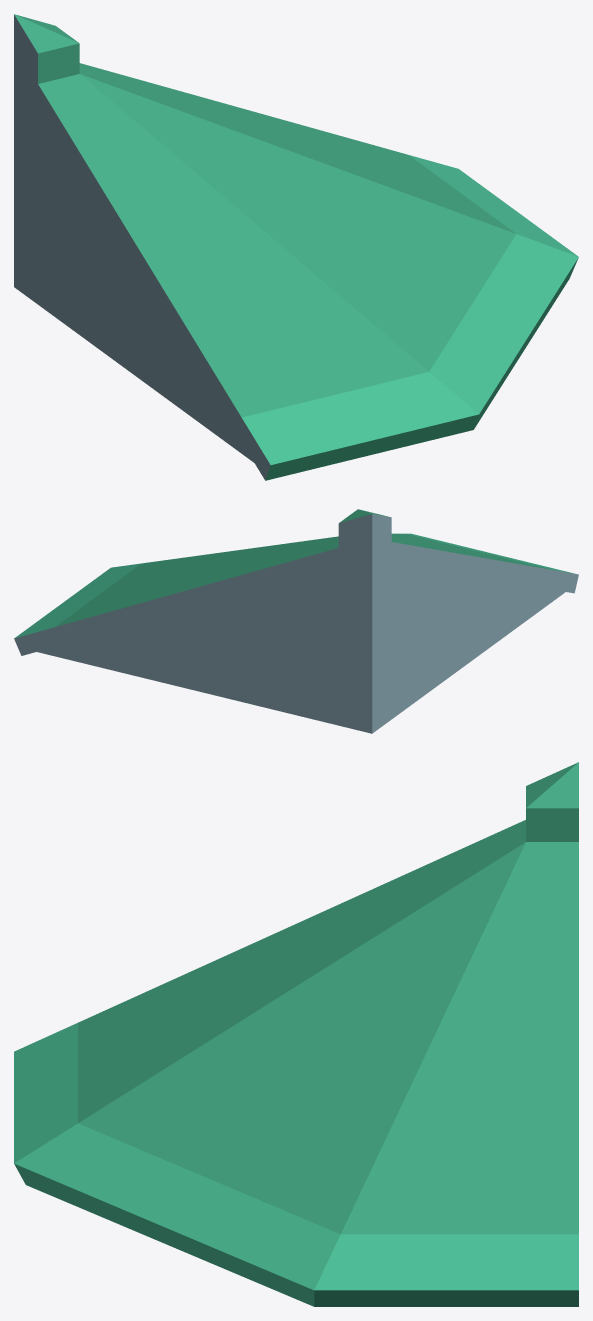
The model's file is roofCornerRound.dae.
3 views of the same model, one above another, from view 1: azimuth 30°, elevation 25°; view 2: azimuth 150°, elevation 25°; view 3: azimuth 270°, elevation 25° (orthographic). The views are drawn at different scales.
Visible parts, largest first — view 1: roofCornerRound; view 2: roofCornerRound; view 3: roofCornerRound.
Boxes of the visible parts, <box> form: roofCornerRound: <box>14,14,578,480</box>; roofCornerRound: <box>14,509,578,733</box>; roofCornerRound: <box>14,762,578,1306</box>.
Bounding box in the file's own units: 1.07 × 0.6483 × 1.07.
